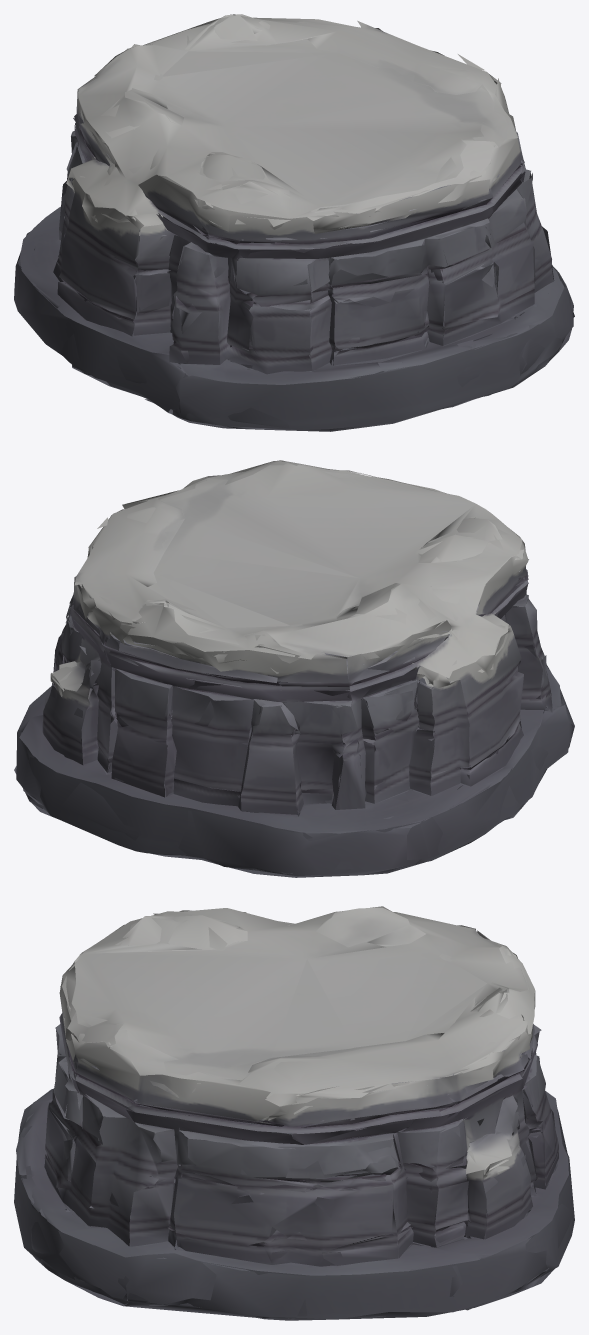
Rendered from snow-cliff-foundation-lod.glb.
3 views of the same model, one above another, from view 1: azimuth 30°, elevation 25°; view 2: azimuth 150°, elevation 25°; view 3: azimuth 270°, elevation 25° (orthographic). The views are drawn at different scales.
Visible parts, largest first — view 1: world; view 2: world; view 3: world.
Boxes of the visible parts, x1,y1,x2,y2 form: world: (14,14,574,431); world: (14,460,574,877); world: (14,906,574,1320).
Size of the model in its own units: 0.1197 by 0.0585 by 0.124.
Materials: 1 (1 with a texture image).
